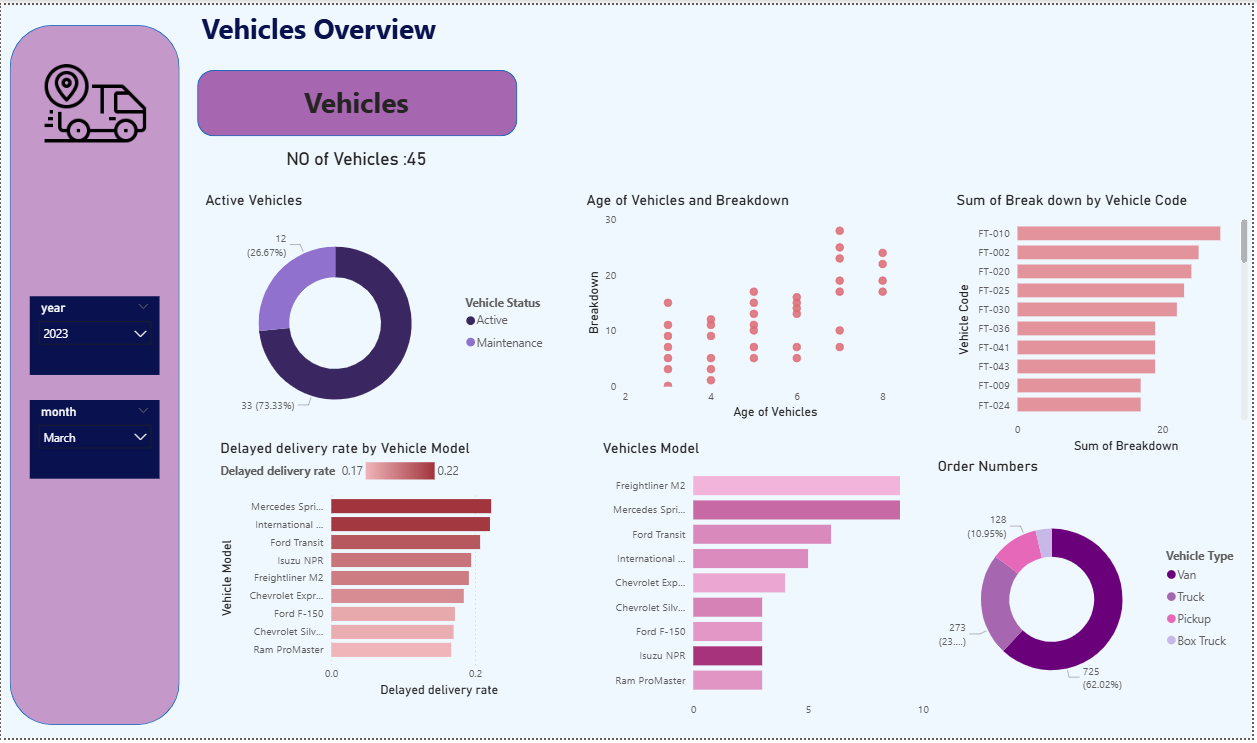

What the dashboard file says about the page in this screenshot:
{"tool":"powerbi","page":{"name":"Vehicles","canvas":[1450,850],"ordinal":3},"visuals":[{"type":"shape","box":[9.7,22.6,196.8,811.3],"z":0},{"type":"textbox","box":[227.4,0,375.2,59.4],"z":1000},{"type":"slicer","fields":{"Values":["date tabel.year"]},"box":[33.3,337.5,150.6,91.3],"z":2000},{"type":"slicer","fields":{"Values":["date tabel.month"]},"box":[33.3,457.7,150.6,91.3],"z":3000},{"type":"shape","box":[227.4,75.3,370.8,76.8],"z":4000},{"type":"textbox","box":[346.2,85.5,134.7,57.9],"z":5000},{"type":"card","fields":{"Values":["Vehicles.No veh"]},"box":[246.3,152.1,331.7,52.1],"z":6000},{"type":"clusteredBarChart","title":"Vehicles Model","fields":{"Category":["Vehicles.Vehicle Model"],"Y":["CountNonNull(Vehicles.Breakdown)"]},"box":[692.4,502.6,388.2,331.7],"z":7000},{"type":"clusteredBarChart","title":"Sum of Break down by Vehicle Code","fields":{"Category":["Vehicles.Vehicle Code"],"Y":["Sum(Vehicles.Breakdown)"]},"box":[1102.3,215.8,347.7,308.5],"z":8000},{"type":"donutChart","title":"Active Vehicles","fields":{"Category":["Vehicles.Vehicle Status"],"Y":["CountNonNull(Vehicles.Vehicle ID)"]},"box":[231.8,215.8,414.3,286.8],"z":9000},{"type":"clusteredBarChart","fields":{"Category":["Vehicles.Vehicle Model"],"Y":["Orders.Delayed delivery rate"]},"box":[249.1,502.6,396.9,304.2],"z":10000},{"type":"scatterChart","fields":{"X":["Vehicles.Age of Vehicles"],"Y":["Vehicles.Breakdown"]},"box":[673.6,215.8,407,269.4],"z":11000},{"type":"donutChart","title":"Order Numbers","fields":{"Category":["Orders.Vehicle Type"],"Y":["Orders.Total Orders"]},"box":[1080.6,524.4,369.4,310],"z":12000},{"type":"image","box":[29,50.7,160.8,126],"z":13000}]}

Visuals, with their boxes in screenshot pixels (x1, y1, x2, y2), scaled from the page's 1450x850 canvas onto the 1257x743 screenshot:
shape: (8,20,179,729)
textbox: (197,0,522,52)
slicer - date tabel.year: (29,295,159,375)
slicer - date tabel.month: (29,400,159,480)
shape: (197,66,519,133)
textbox: (300,75,417,125)
card - Vehicles.No veh: (214,133,501,178)
"Vehicles Model" clusteredBarChart: (600,439,937,729)
"Sum of Break down by Vehicle Code" clusteredBarChart: (956,189,1256,458)
"Active Vehicles" donutChart: (201,189,560,439)
clusteredBarChart - Vehicles.Vehicle Model x Orders.Delayed delivery rate: (216,439,560,705)
scatterChart - Vehicles.Age of Vehicles x Vehicles.Breakdown: (584,189,937,424)
"Order Numbers" donutChart: (937,458,1256,729)
image: (25,44,165,154)
